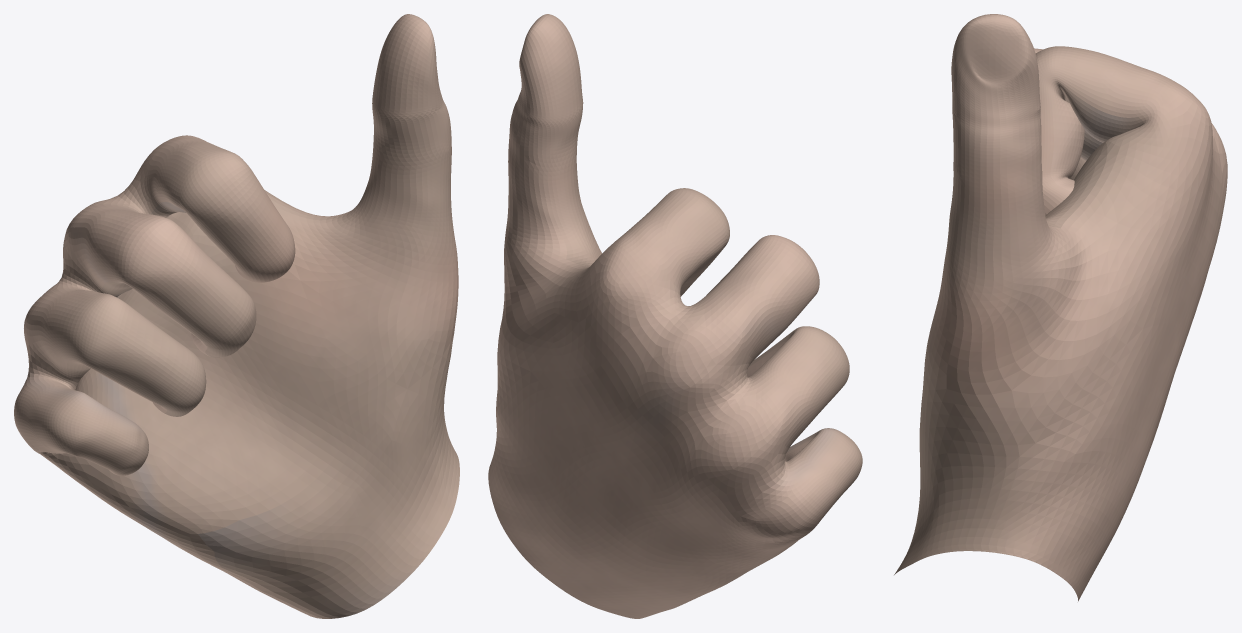
The model's file is Main_Pouce.glb.
3 views of the same model, side by side, from view 1: azimuth 30°, elevation 25°; view 2: azimuth 150°, elevation 25°; view 3: azimuth 270°, elevation 25° (orthographic). The views are drawn at different scales.
Parts seen in each view (by area): view 1: Main_Pouce.glb; view 2: Main_Pouce.glb; view 3: Main_Pouce.glb.
Boxes of the visible parts, x1,y1,x2,y2 form: Main_Pouce.glb: (14, 14, 459, 618); Main_Pouce.glb: (488, 14, 862, 618); Main_Pouce.glb: (894, 14, 1227, 601).
Bounding box in the file's own units: 0.0964 × 0.1379 × 0.0633.
Materials: 1 (1 with a texture image).
